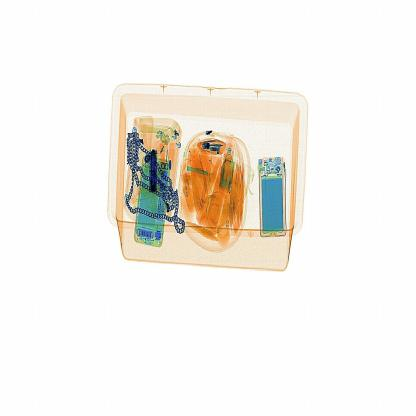scissors: (145, 144, 162, 196)
